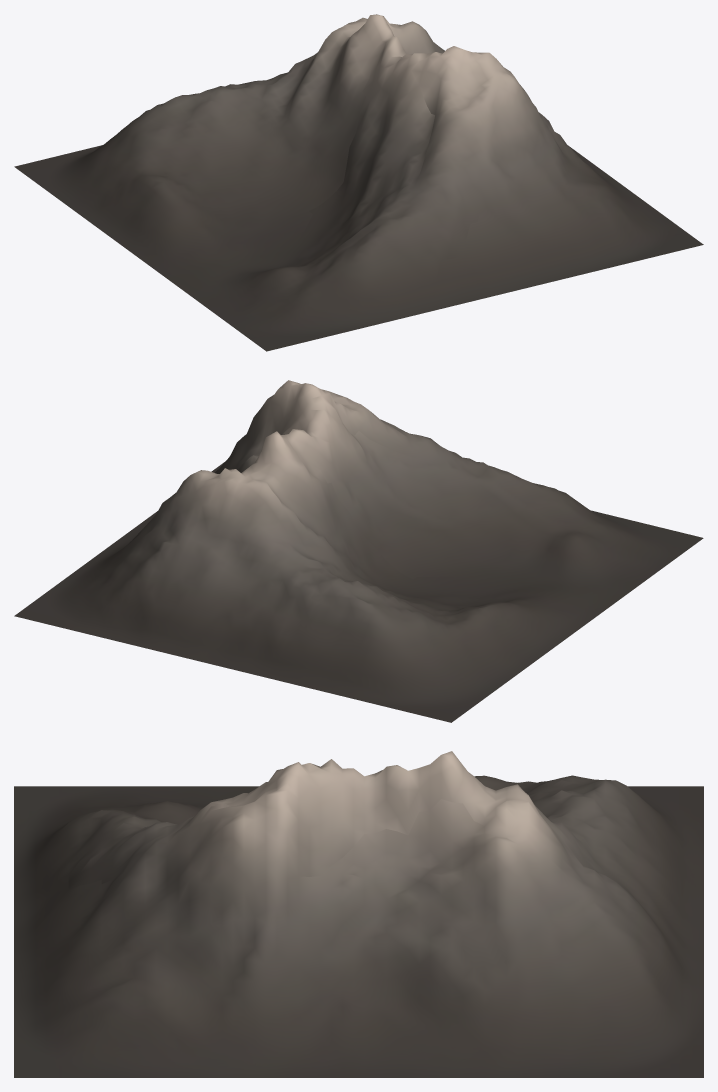
Rendered from Mountain_1C.fbx.
The picture shows the model from 3 angles, top to bottom: view 1: azimuth 30°, elevation 25°; view 2: azimuth 150°, elevation 25°; view 3: azimuth 270°, elevation 25°; orthographic projection. The views are drawn at different scales.
Parts seen in each view (by area): view 1: Mountain_1C; view 2: Mountain_1C; view 3: Mountain_1C.
Boxes of the visible parts, bbox=[...] form: Mountain_1C: bbox=[14, 14, 703, 351]; Mountain_1C: bbox=[14, 380, 703, 722]; Mountain_1C: bbox=[14, 751, 703, 1077].
Size of the model in its own units: 20000 by 6915 by 20000.
